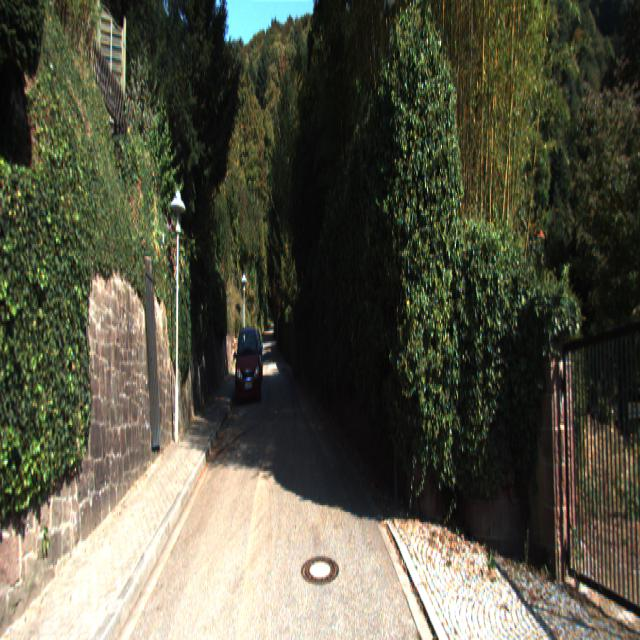Car: (233, 323, 261, 409)
